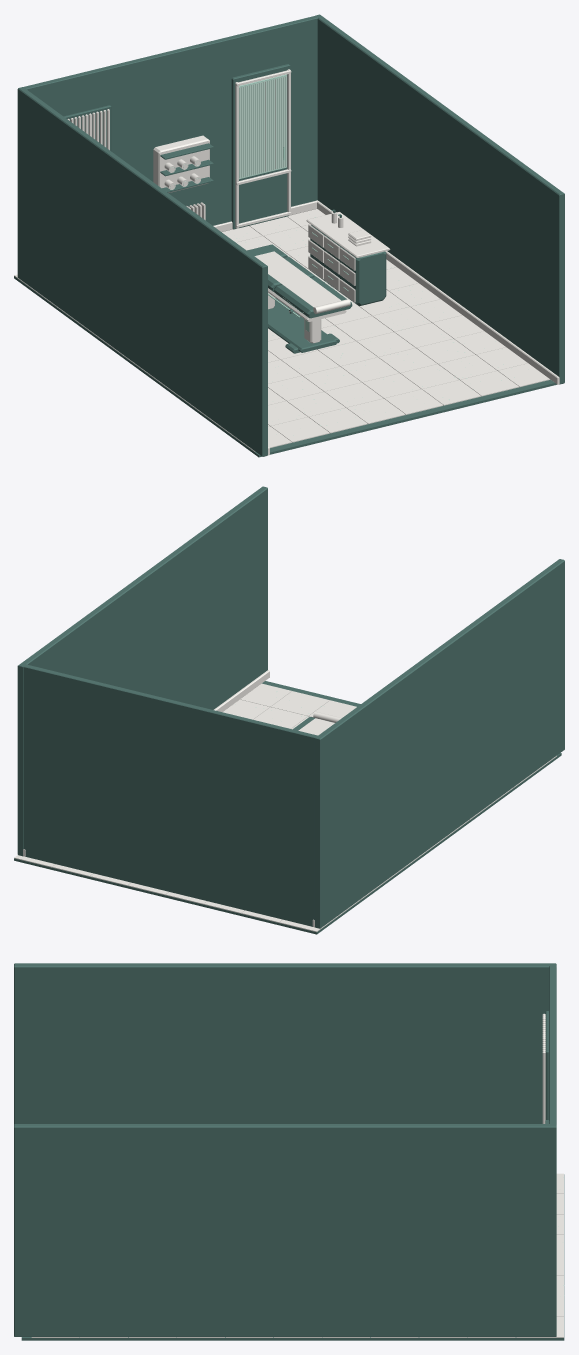
File: room.glb
The picture shows the model from 3 angles, top to bottom: view 1: azimuth 30°, elevation 25°; view 2: azimuth 150°, elevation 25°; view 3: azimuth 270°, elevation 25°; orthographic projection. The views are drawn at different scales.
Parts seen in each view (by area): view 1: suite.room, suite.paper, suite.mint, suite.recess, suite.leather; view 2: suite.room, suite.paper; view 3: suite.room, suite.paper.
Boxes of the visible parts, x1,y1,x2,y2 form: suite.room: (14, 14, 564, 457); suite.paper: (14, 69, 559, 455); suite.mint: (170, 74, 528, 435); suite.recess: (64, 64, 290, 229); suite.leather: (247, 244, 352, 318); suite.room: (14, 486, 564, 934); suite.paper: (14, 670, 556, 931); suite.room: (14, 963, 564, 1340); suite.paper: (31, 1013, 563, 1337).
Size of the model in its own units: 5 by 3.04 by 7.11.
